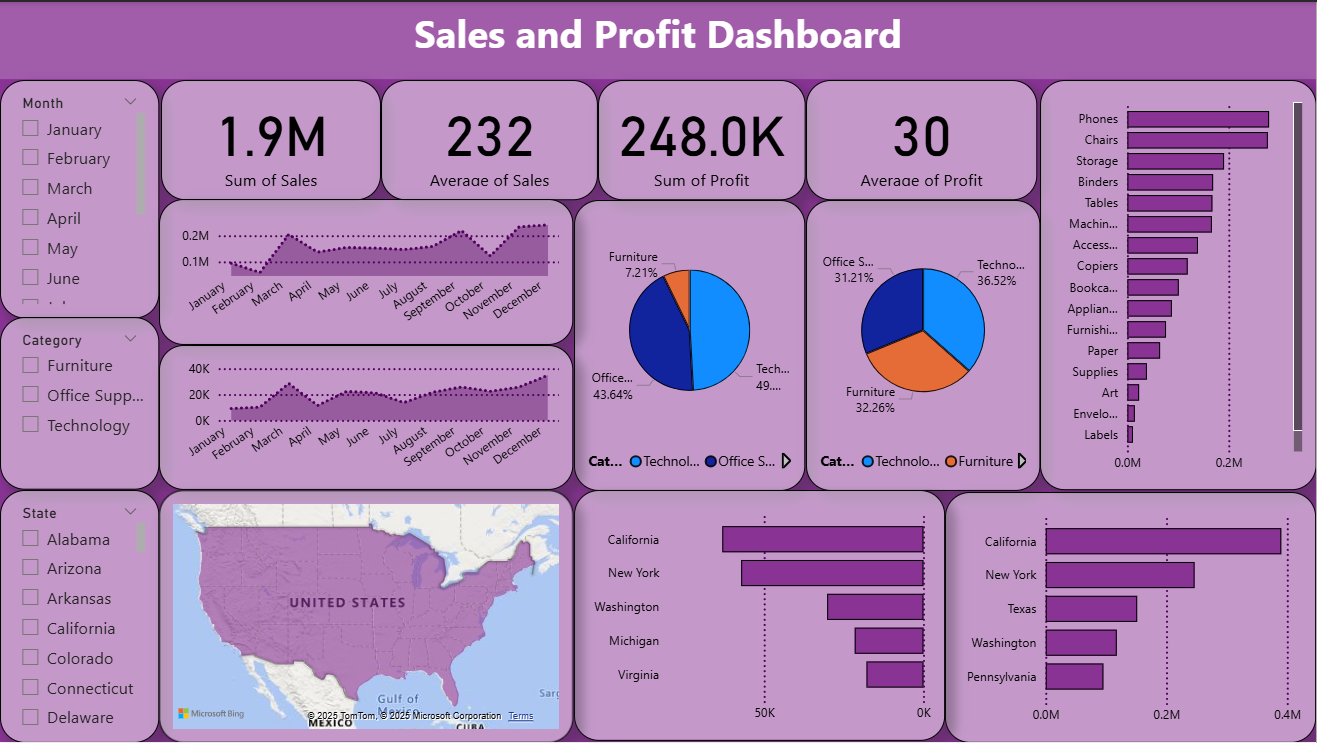

What the dashboard file says about the page in this screenshot:
{"tool":"powerbi","page":{"name":"Page 1","canvas":[1280,720],"ordinal":0},"visuals":[{"type":"textbox","box":[0,0,1280.3,75.5],"z":0},{"type":"slicer","fields":{"Values":["Data.Order Date.Variation.Date Hierarchy.Month"]},"box":[0,75.5,155.1,231.9],"z":1000},{"type":"slicer","fields":{"Values":["Data.Category"]},"box":[0,306.7,155,168.3],"z":2000},{"type":"slicer","fields":{"Values":["Data.State"]},"box":[0,474.8,155.1,245.6],"z":3000},{"type":"card","fields":{"Values":["Sum(Data.Sales)"]},"box":[156.4,75.5,214.1,116.6],"z":4000},{"type":"card","fields":{"Values":["Avg(Data.Sales)"]},"box":[370.5,75.5,211.3,116.6],"z":5000},{"type":"card","fields":{"Values":["Sum(Data.Profit)"]},"box":[581.8,75.5,201.7,116.6],"z":6000},{"type":"card","fields":{"Values":["Avg(Data.Profit)"]},"box":[783.5,75.5,225,116.6],"z":7000},{"type":"pieChart","fields":{"Y":["Sum(Data.Profit)"],"Category":["Data.Category"]},"box":[558.5,192.1,225,282.7],"z":8000},{"type":"pieChart","fields":{"Category":["Data.Category"],"Y":["Sum(Data.Sales)"]},"box":[783.5,192.1,227.8,282.7],"z":9000},{"type":"lineChart","fields":{"Y":["Sum(Data.Sales)"],"Category":["Data.Order Date.Variation.Date Hierarchy.Month"]},"box":[154.7,191.9,403.5,141.9],"z":10000},{"type":"lineChart","fields":{"Y":["Sum(Data.Profit)"],"Category":["Data.Order Date.Variation.Date Hierarchy.Month"]},"box":[155.1,333.4,403.4,141.3],"z":11000},{"type":"clusteredBarChart","fields":{"Category":["Data.Sub-Category"],"Y":["Sum(Data.Sales)"]},"box":[1011.3,75.5,269,399.3],"z":12000},{"type":"barChart","fields":{"Category":["Data.State"],"Y":["Sum(Data.Sales)"]},"box":[919.4,476.2,360.9,244.3],"z":13000},{"type":"barChart","fields":{"Category":["Data.State"],"Y":["Sum(Data.Profit)"]},"box":[558.5,474.8,360.9,244.3],"z":14000},{"type":"filledMap","fields":{"Category":["Data.State"]},"box":[155.1,474.8,403.4,245.6],"z":15000}]}

Visuals, with their boxes in screenshot pixels (x1, y1, x2, y2), scaled from the page's 1280x720 canvas onto the 1317x743 screenshot:
textbox: [0,0,1316,78]
slicer - Data.Order Date.Variation.Date Hierarchy.Month: [0,78,160,317]
slicer - Data.Category: [0,316,159,490]
slicer - Data.State: [0,490,160,742]
card - Sum(Data.Sales): [161,78,381,198]
card - Avg(Data.Sales): [381,78,599,198]
card - Sum(Data.Profit): [599,78,806,198]
card - Avg(Data.Profit): [806,78,1038,198]
pieChart - Sum(Data.Profit) x Data.Category: [575,198,806,490]
pieChart - Data.Category x Sum(Data.Sales): [806,198,1041,490]
lineChart - Sum(Data.Sales) x Data.Order Date.Variation.Date Hierarchy.Month: [159,198,574,344]
lineChart - Sum(Data.Profit) x Data.Order Date.Variation.Date Hierarchy.Month: [160,344,575,490]
clusteredBarChart - Data.Sub-Category x Sum(Data.Sales): [1041,78,1316,490]
barChart - Data.State x Sum(Data.Sales): [946,491,1316,742]
barChart - Data.State x Sum(Data.Profit): [575,490,946,742]
filledMap - Data.State: [160,490,575,742]
